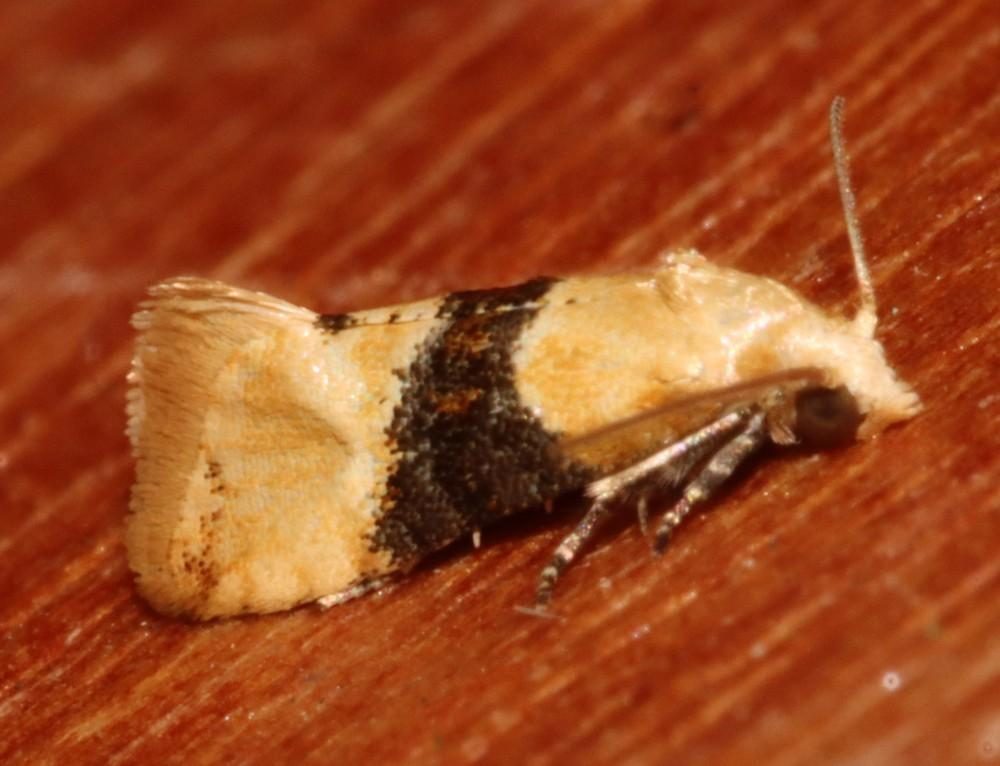Eupoecilia Ambiguella: (118, 93, 924, 625)
